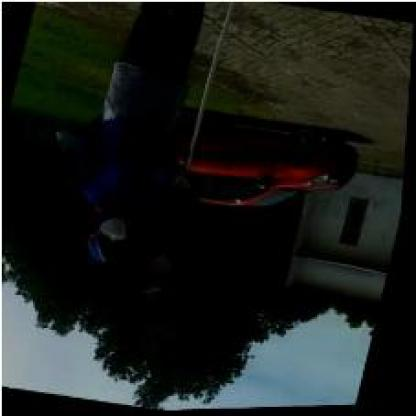red: (125, 165, 209, 300)
